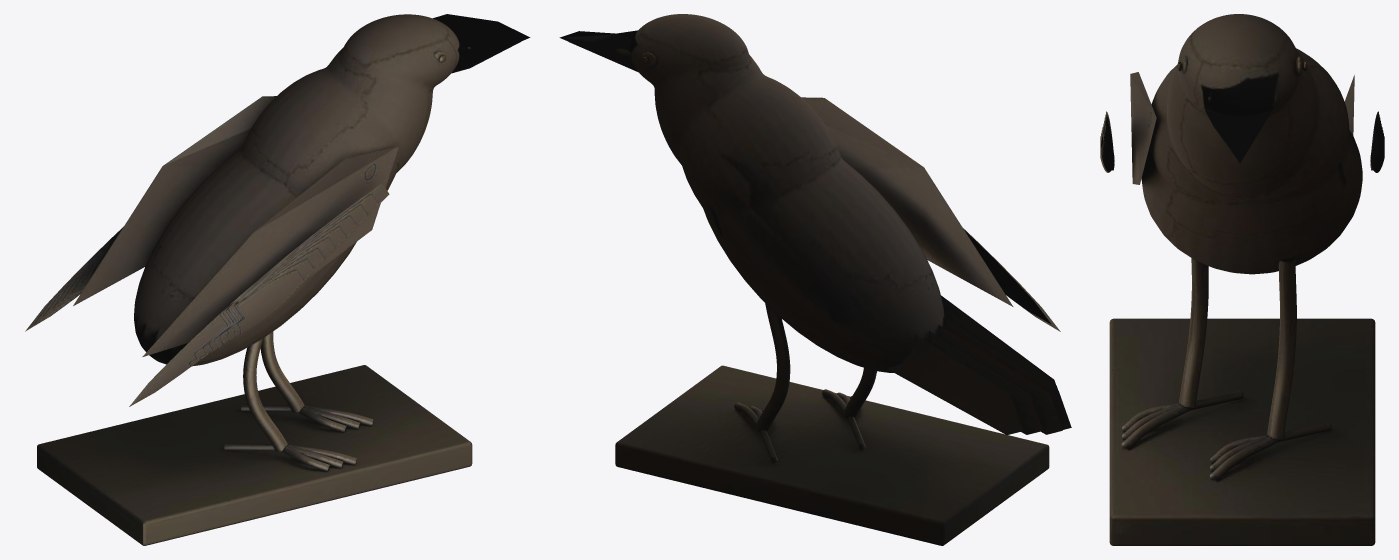
Rendered from raven-reference-v3.glb.
3 views of the same model, side by side, from view 1: azimuth 30°, elevation 25°; view 2: azimuth 150°, elevation 25°; view 3: azimuth 270°, elevation 25° (orthographic). The views are drawn at different scales.
Parts seen in each view (by area): view 1: Reference raven; view 2: Reference raven; view 3: Reference raven.
Boxes of the visible parts, bbox=[...] form: Reference raven: bbox=[25, 14, 530, 545]; Reference raven: bbox=[559, 14, 1071, 545]; Reference raven: bbox=[1100, 14, 1384, 545].
Size of the model in its own units: 0.6035 by 0.4659 by 0.2357.
1 material, 1 textured.
